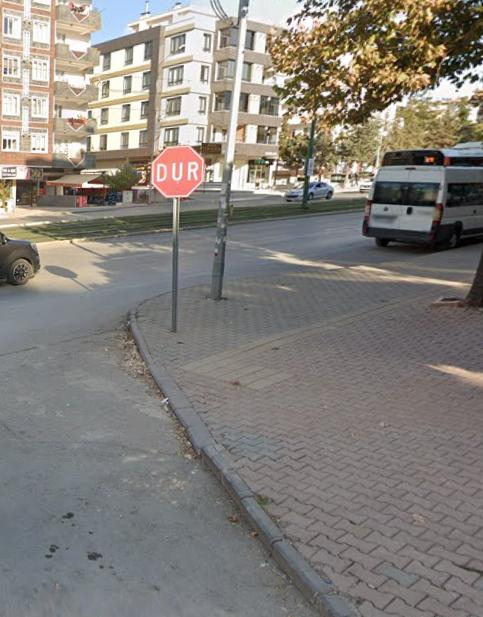stop: (151, 145, 206, 199)
